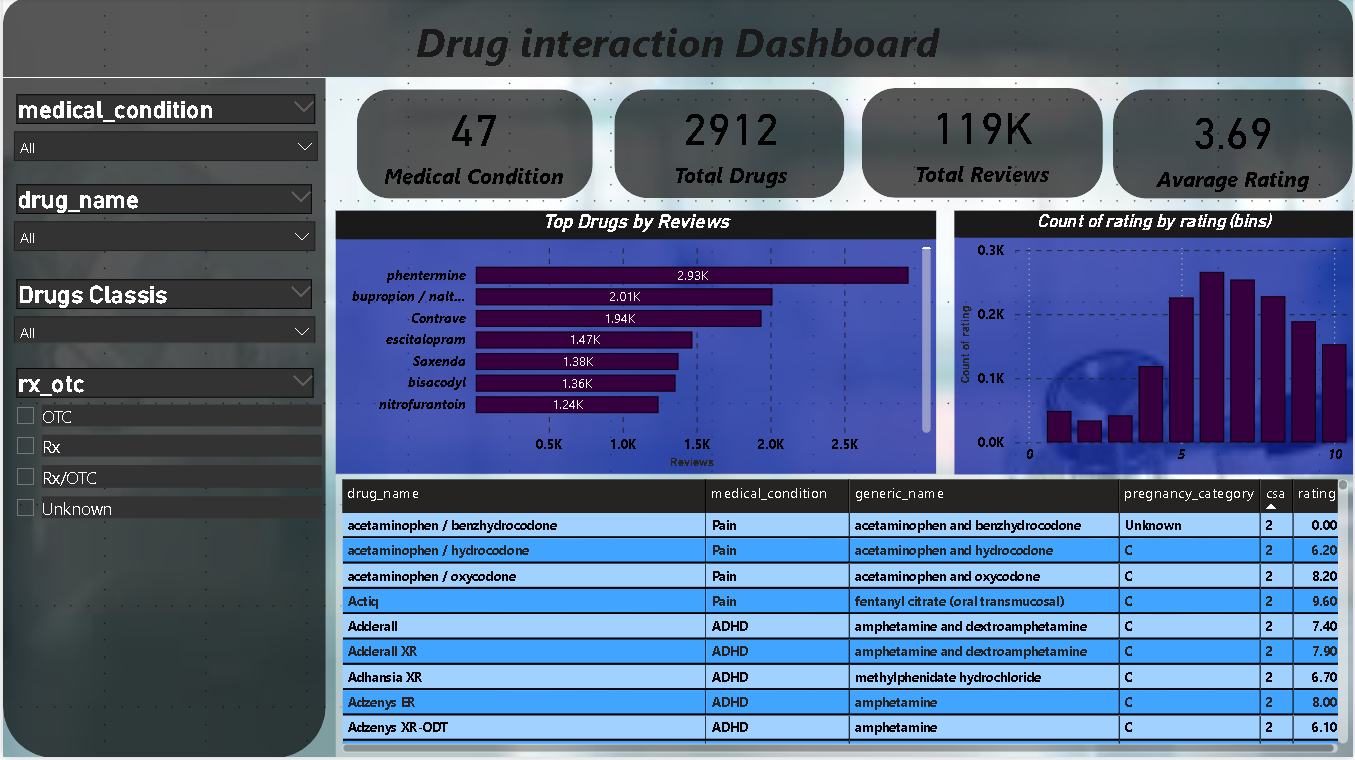

This screenshot's page, from the dashboard's own definition file:
{"tool":"powerbi","page":{"name":"Page 1","canvas":[1280,720],"ordinal":0},"visuals":[{"type":"shape","box":[0,75.5,306,644.9],"z":0},{"type":"shape","box":[0,0,1280,75],"z":1000},{"type":"card","fields":{"Values":["public data.Total Drugs"]},"box":[536.7,58.3,306.7,151.7],"z":2000},{"type":"shape","box":[814.3,85.7,228.6,104.3],"z":3000},{"type":"shape","box":[1052.5,86.2,227.5,103.8],"z":4000},{"type":"shape","box":[335,86.2,223.8,103.8],"z":5000},{"type":"shape","box":[580,86.7,218.3,103.3],"z":6000},{"type":"card","fields":{"Values":["public data.Medical Condition"]},"box":[293.7,60.4,306,149.6],"z":7000},{"type":"card","fields":{"Values":["public data.Total Reviews"]},"box":[775,58.3,306.7,150],"z":8000},{"type":"card","fields":{"Values":["public data.Avarage Rating"]},"box":[1052.9,62.9,227.1,150],"z":9000},{"type":"slicer","fields":{"Values":["public data.drug_classes"]},"box":[0,262.1,306,64.5],"z":10000},{"type":"barChart","title":"Top Drugs by Reviews","fields":{"Category":["public data.drug_name"],"Y":["Sum(public data.no_of_reviews)"]},"box":[315.6,201.7,569.5,249.7],"z":11000},{"type":"slicer","fields":{"Values":["public data.medical_condition"]},"box":[0,86.4,308.7,74.1],"z":12000},{"type":"columnChart","fields":{"Y":["CountNonNull(public data.rating)"],"Category":["public data.rating (bins)"]},"box":[901.7,201.7,378.3,250],"z":13000},{"type":"tableEx","fields":{"Values":["public data.drug_name","public data.medical_condition","public data.generic_name","public data.pregnancy_category","public data.csa","public data.rating"]},"box":[315.6,451.5,964.7,269],"z":14000},{"type":"slicer","fields":{"Values":["public data.rx_otc"]},"box":[0,345.8,307.4,190.7],"z":15000},{"type":"slicer","fields":{"Values":["public data.drug_name"]},"box":[0,171.5,306,75.5],"z":16001}]}

Visuals, with their boxes in screenshot pixels (x1, y1, x2, y2), scaled from the page's 1280x720 canvas onto the 1355x760 screenshot:
shape: 0,80,324,759
shape: 0,0,1354,79
card - public data.Total Drugs: 568,62,893,222
shape: 862,90,1104,201
shape: 1114,91,1354,201
shape: 355,91,592,201
shape: 614,92,845,201
card - public data.Medical Condition: 311,64,635,222
card - public data.Total Reviews: 820,62,1145,220
card - public data.Avarage Rating: 1115,66,1354,225
slicer - public data.drug_classes: 0,277,324,345
"Top Drugs by Reviews" barChart: 334,213,937,476
slicer - public data.medical_condition: 0,91,327,169
columnChart - CountNonNull(public data.rating) x public data.rating (bins): 955,213,1354,477
tableEx - public data.drug_name x public data.medical_condition: 334,477,1354,759
slicer - public data.rx_otc: 0,365,325,566
slicer - public data.drug_name: 0,181,324,261
